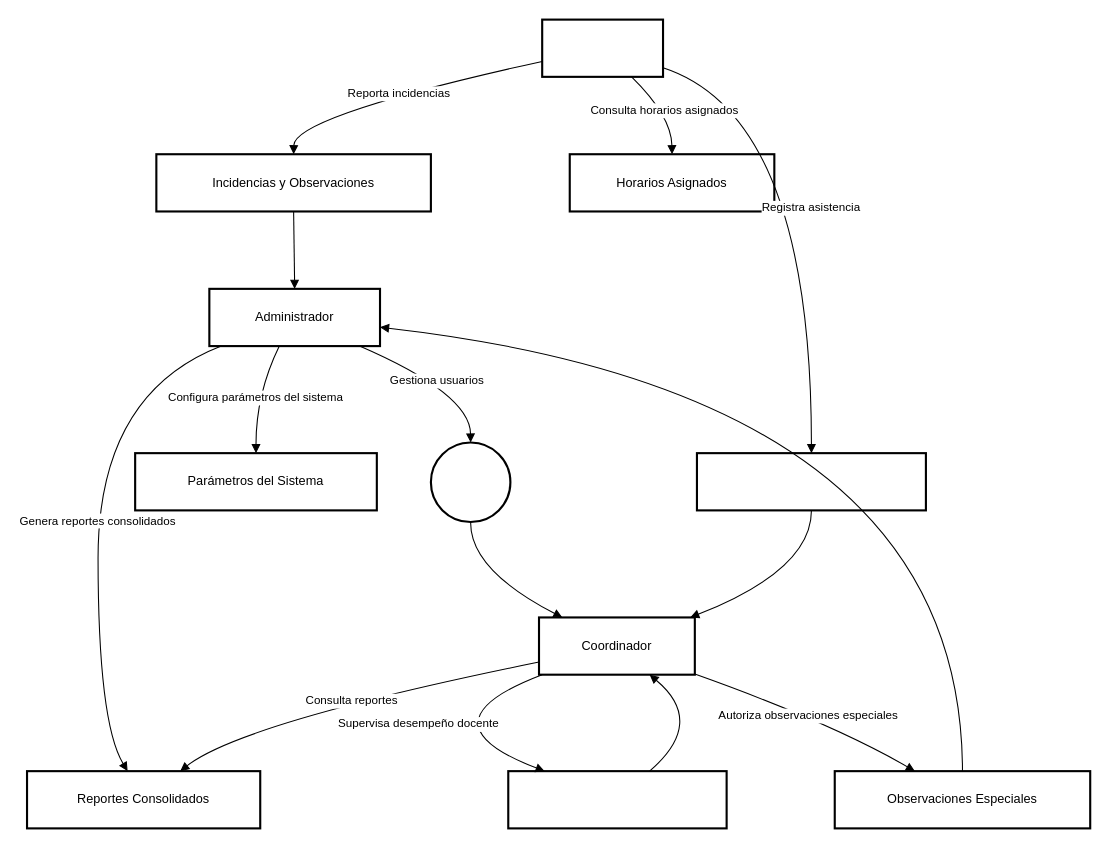
Some shapes in this 1109 by 847 pixel diagram are drawn without their labels. The centre of each missing label's shape, as x and y in pixels:
Desempeño Docente: [617,799]
Monitor: [602,47]
Registro de Asistencia: [810,481]
Usuarios: [470,482]
